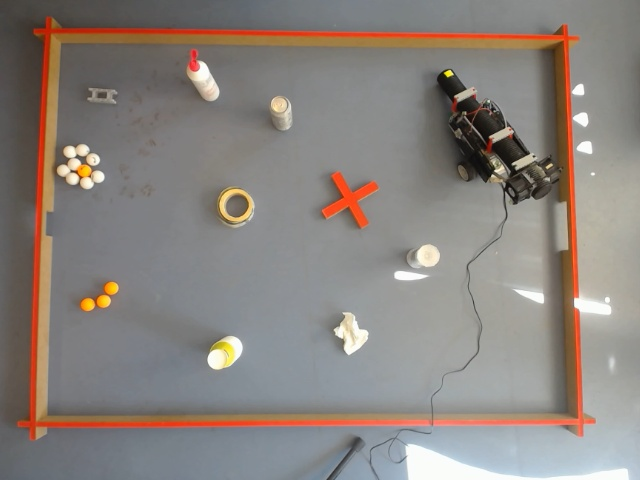orange: (269, 95, 292, 130), (78, 295, 106, 314), (94, 290, 114, 311), (91, 293, 113, 312), (78, 296, 98, 314), (103, 280, 120, 297)
robot: (434, 69, 564, 211)
white: (217, 188, 253, 227), (206, 336, 244, 371), (269, 95, 293, 131), (412, 244, 441, 270), (592, 469, 632, 480), (602, 467, 630, 480), (58, 164, 72, 181), (69, 154, 82, 172), (75, 143, 90, 158), (92, 168, 106, 184), (79, 174, 93, 190), (87, 151, 101, 167), (62, 144, 75, 159), (56, 163, 69, 178), (66, 171, 79, 186), (72, 144, 85, 159)
